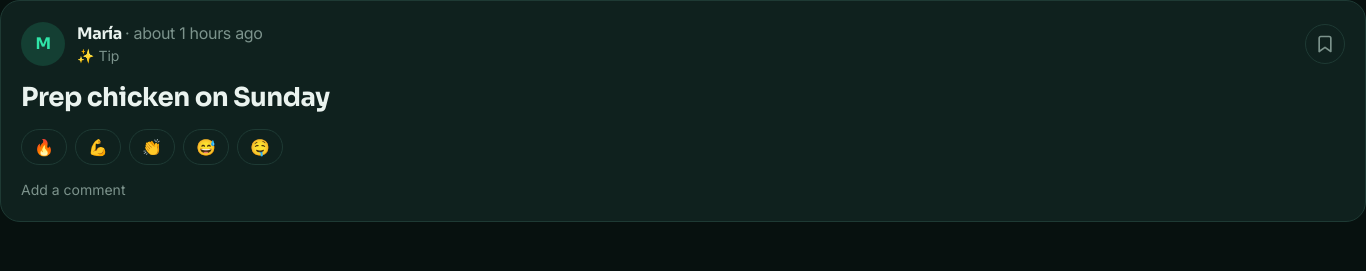
Test case: saving › says something when the write fails
Click the button named "Save Prep chicken on Sunday" at (1325, 44), box [1305, 24, 1345, 64]
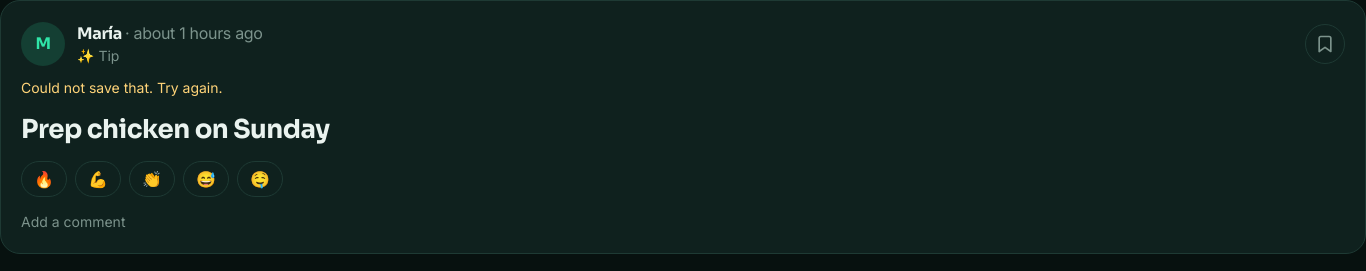
Expected: the message "Could not save that. Try again." is shown, [21, 79, 222, 96]
